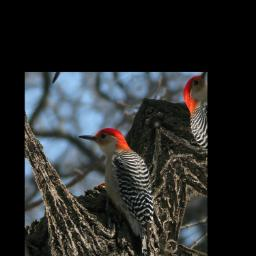Woodpecker: (69, 110, 184, 256)
